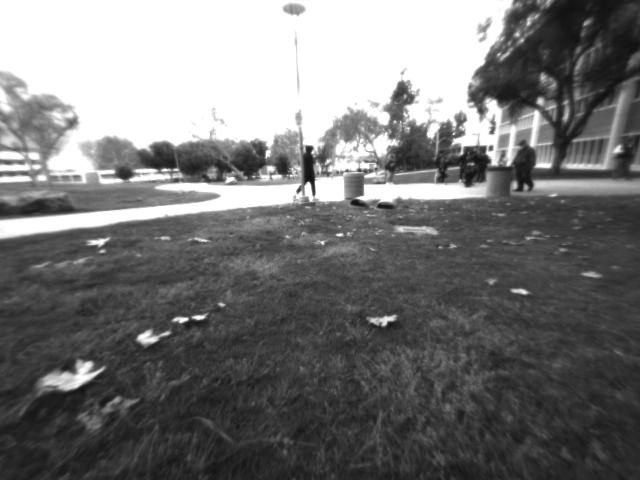trashcan: (481, 157, 516, 200), (337, 164, 370, 200)
